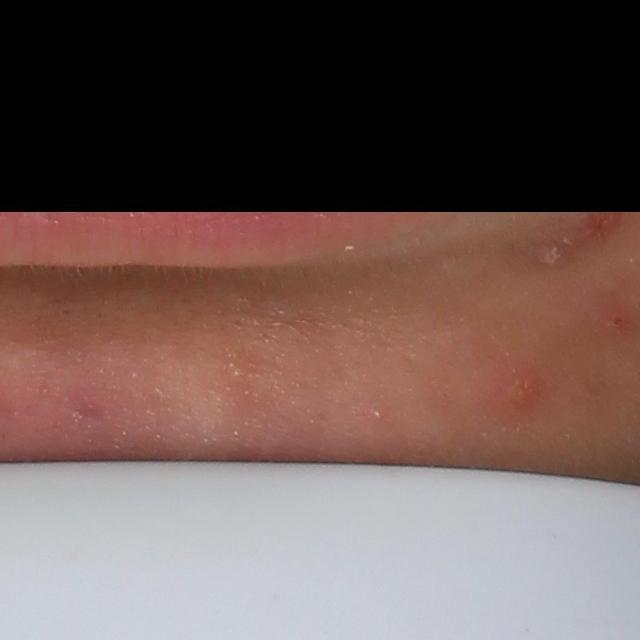papule: (593, 297, 633, 334)
